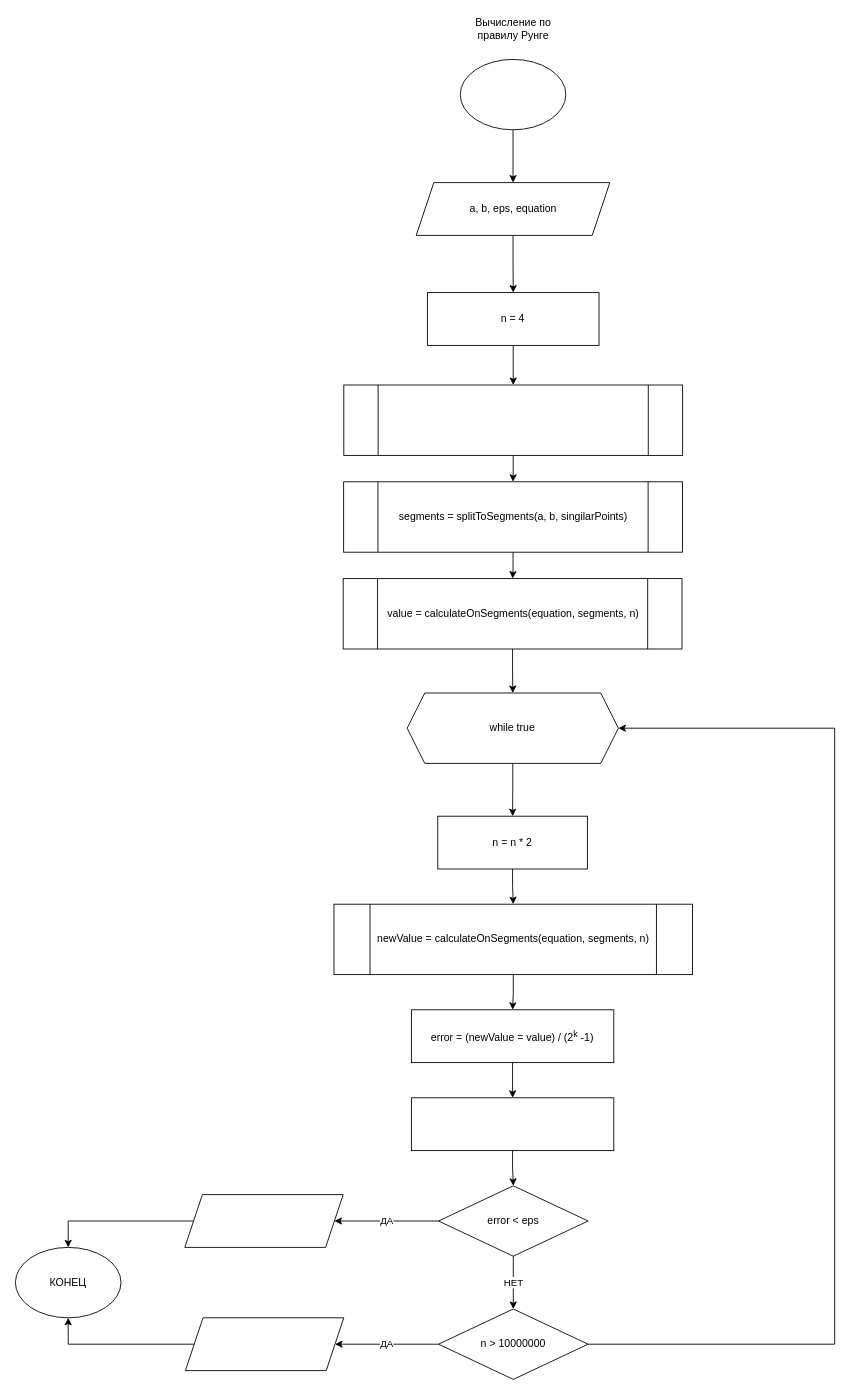
Image size: 857x1395. Some labels were removed from this diagram. The shapes that lost their labels are listed below. From the top down, each one's centre as x and y in pixels, then its label:
At [512,94]: "НАЧАЛО".
At [513,419]: "singularPoints = findSingularities(equation, a, b)".
At [512,1124]: "value = newValue".
At [263,1220]: "value".
At [264,1344]: "Exception".
